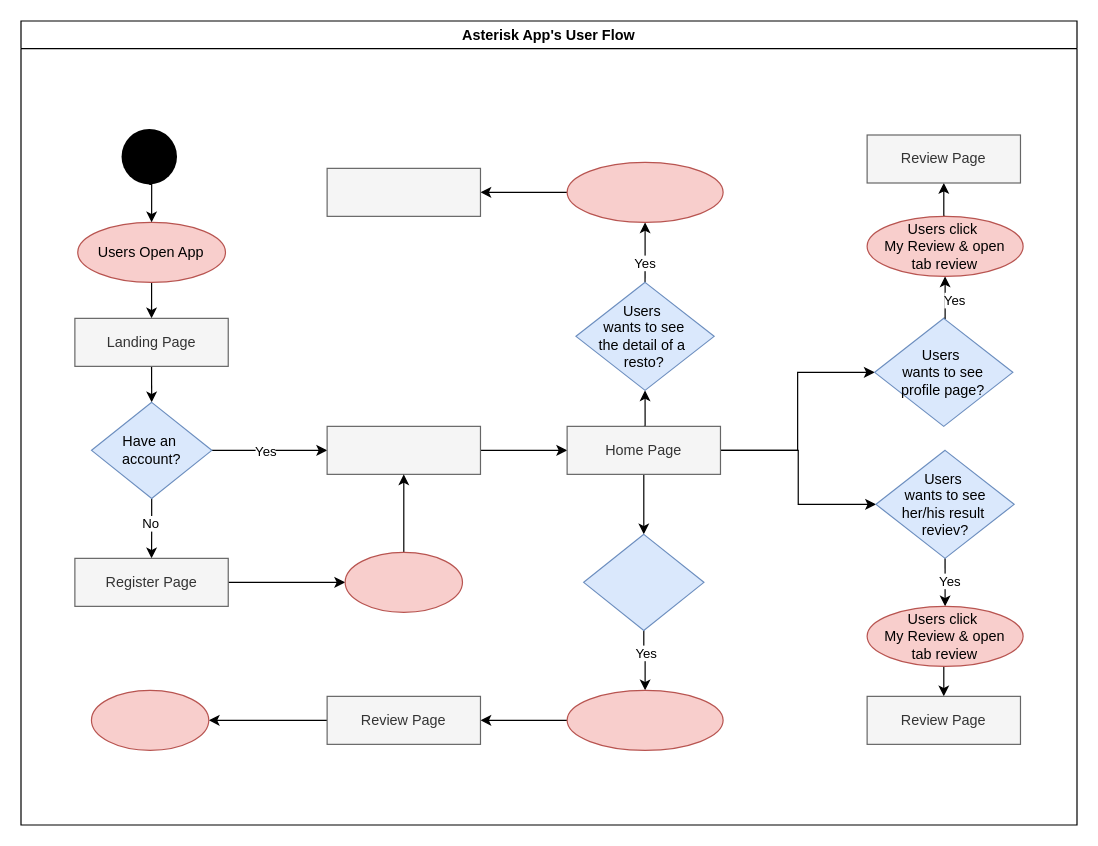
This 1098x846 diagram has some shape labels left out. The centre of each missing label's shape, as x and y in pixels:
"Description Page" belongs at [403,191].
"Login Page" belongs at [403,449].
"Users click detail resto & open t ab description" belongs at [644,191].
"Users click detail resto & open t ab review" belongs at [644,719].
"Users enter credentials" belongs at [403,581].
"Users wants to review a resto?" belongs at [643,581].
"Users write review & submit" belongs at [149,719].
